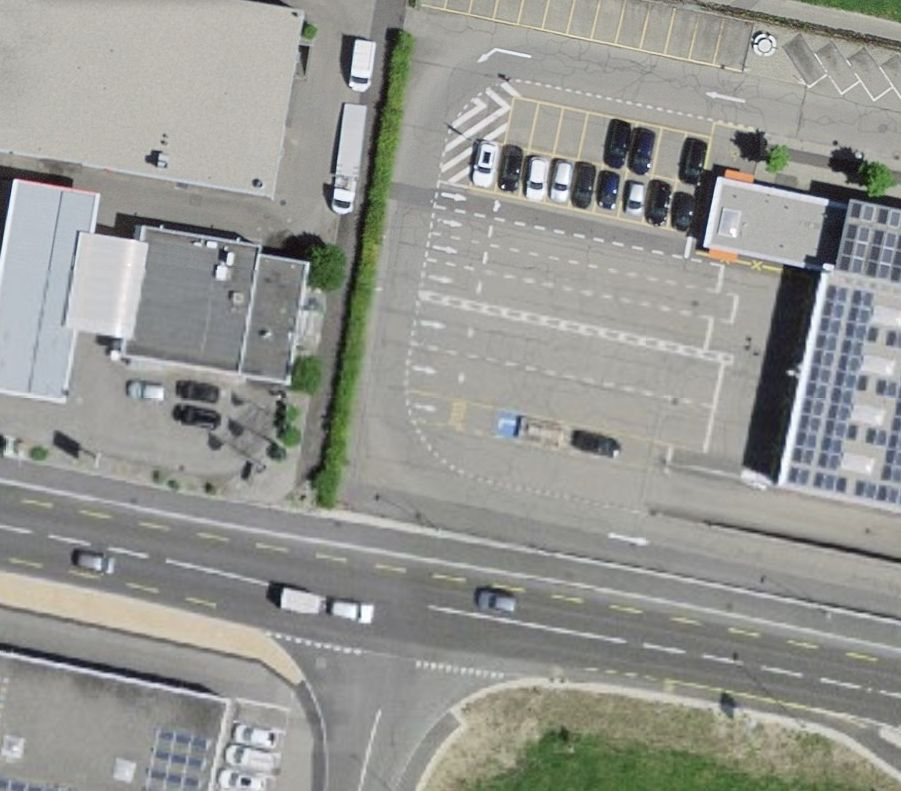solar: (781, 219, 901, 500)
